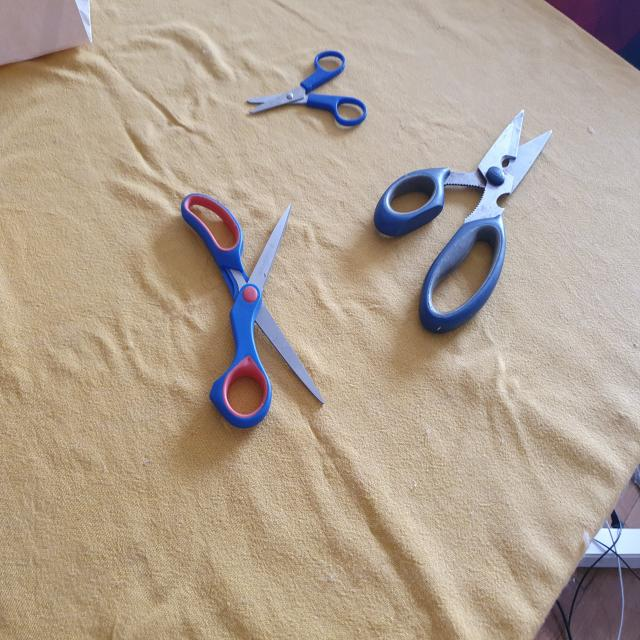scissors: (371, 108, 556, 334), (181, 183, 327, 434), (245, 45, 365, 130)
